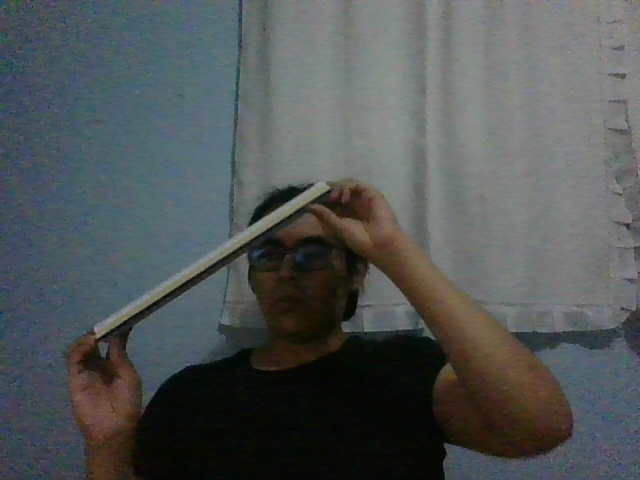regla: (93, 182, 331, 343)
